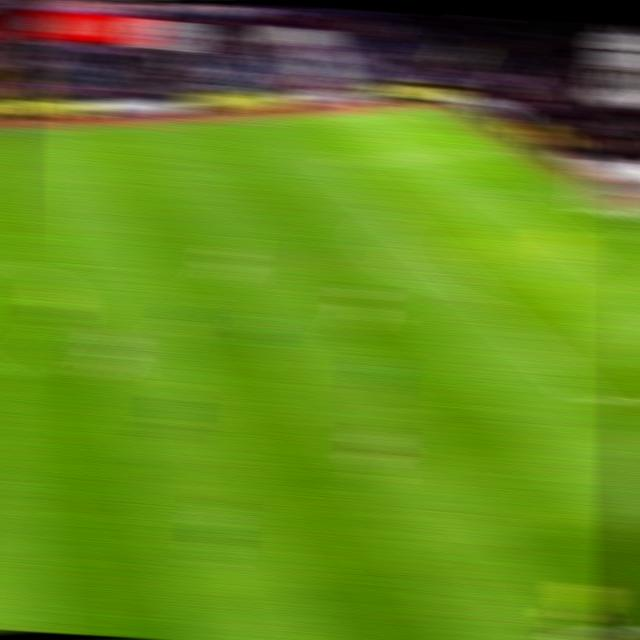bigarea_bottom_inner: (580, 392, 614, 417)
bigarea_top_inner: (317, 155, 353, 173)
bigarea_top_outter: (474, 142, 507, 158)
bottom_arc_area_intersection: (464, 286, 500, 313)
corner: (408, 104, 442, 116)
smallarea_bottom_inner: (620, 284, 640, 302)
smallarea_top_inner: (485, 186, 518, 209)
smallarea_top_outter: (538, 182, 572, 200)
top_arc_area_intersection: (375, 209, 409, 228)
